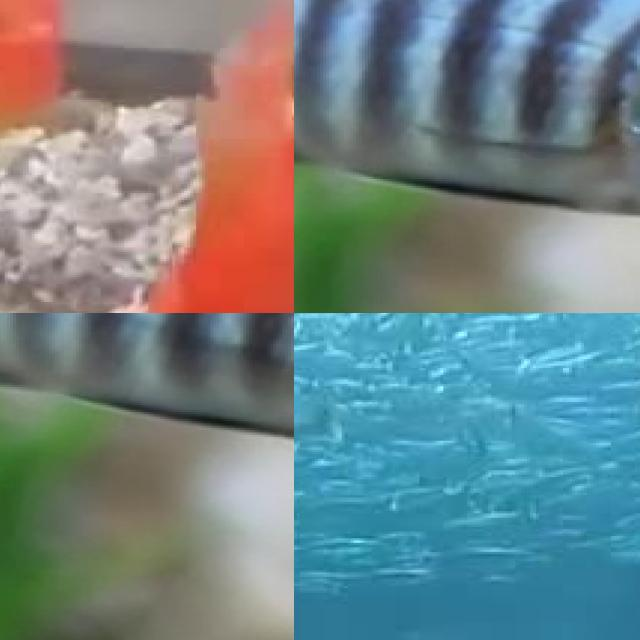fish: (0, 0, 294, 313), (0, 313, 294, 437)
